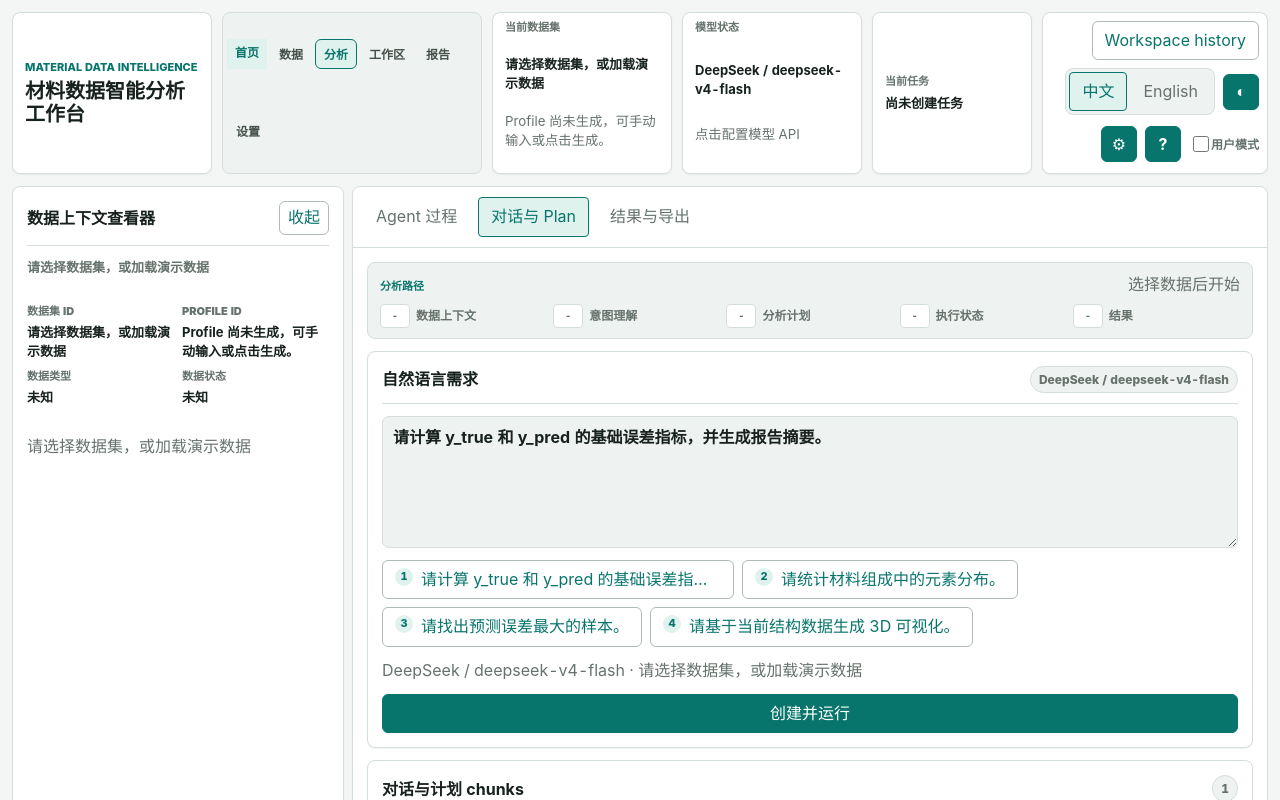
Test: Phase 9C PlannerWorkbench › loads metadata-only Workspace history and opens the authoritative Research run
Click the button "Workspace history" at (1175, 41), box [1092,21,1259,60]
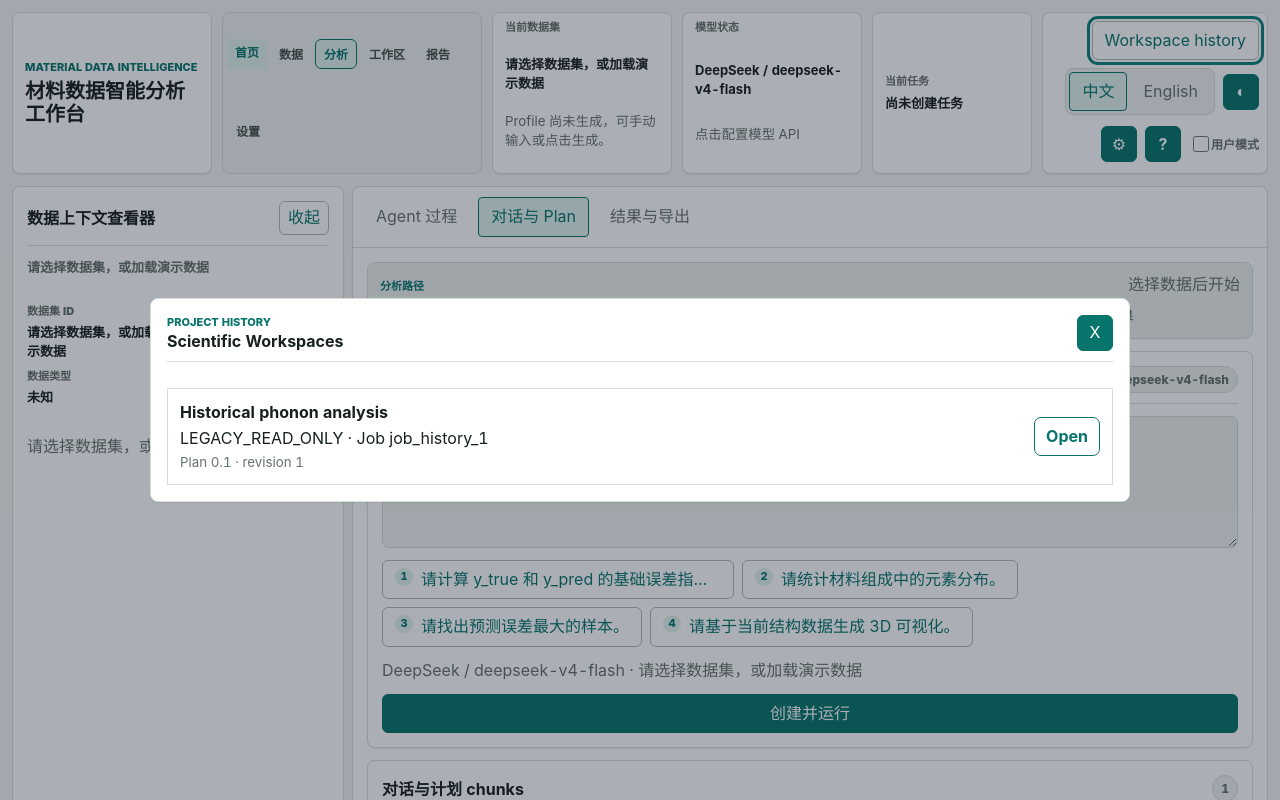
Result: the text "Historical phonon analysis" is shown at [180,402,388,422]
